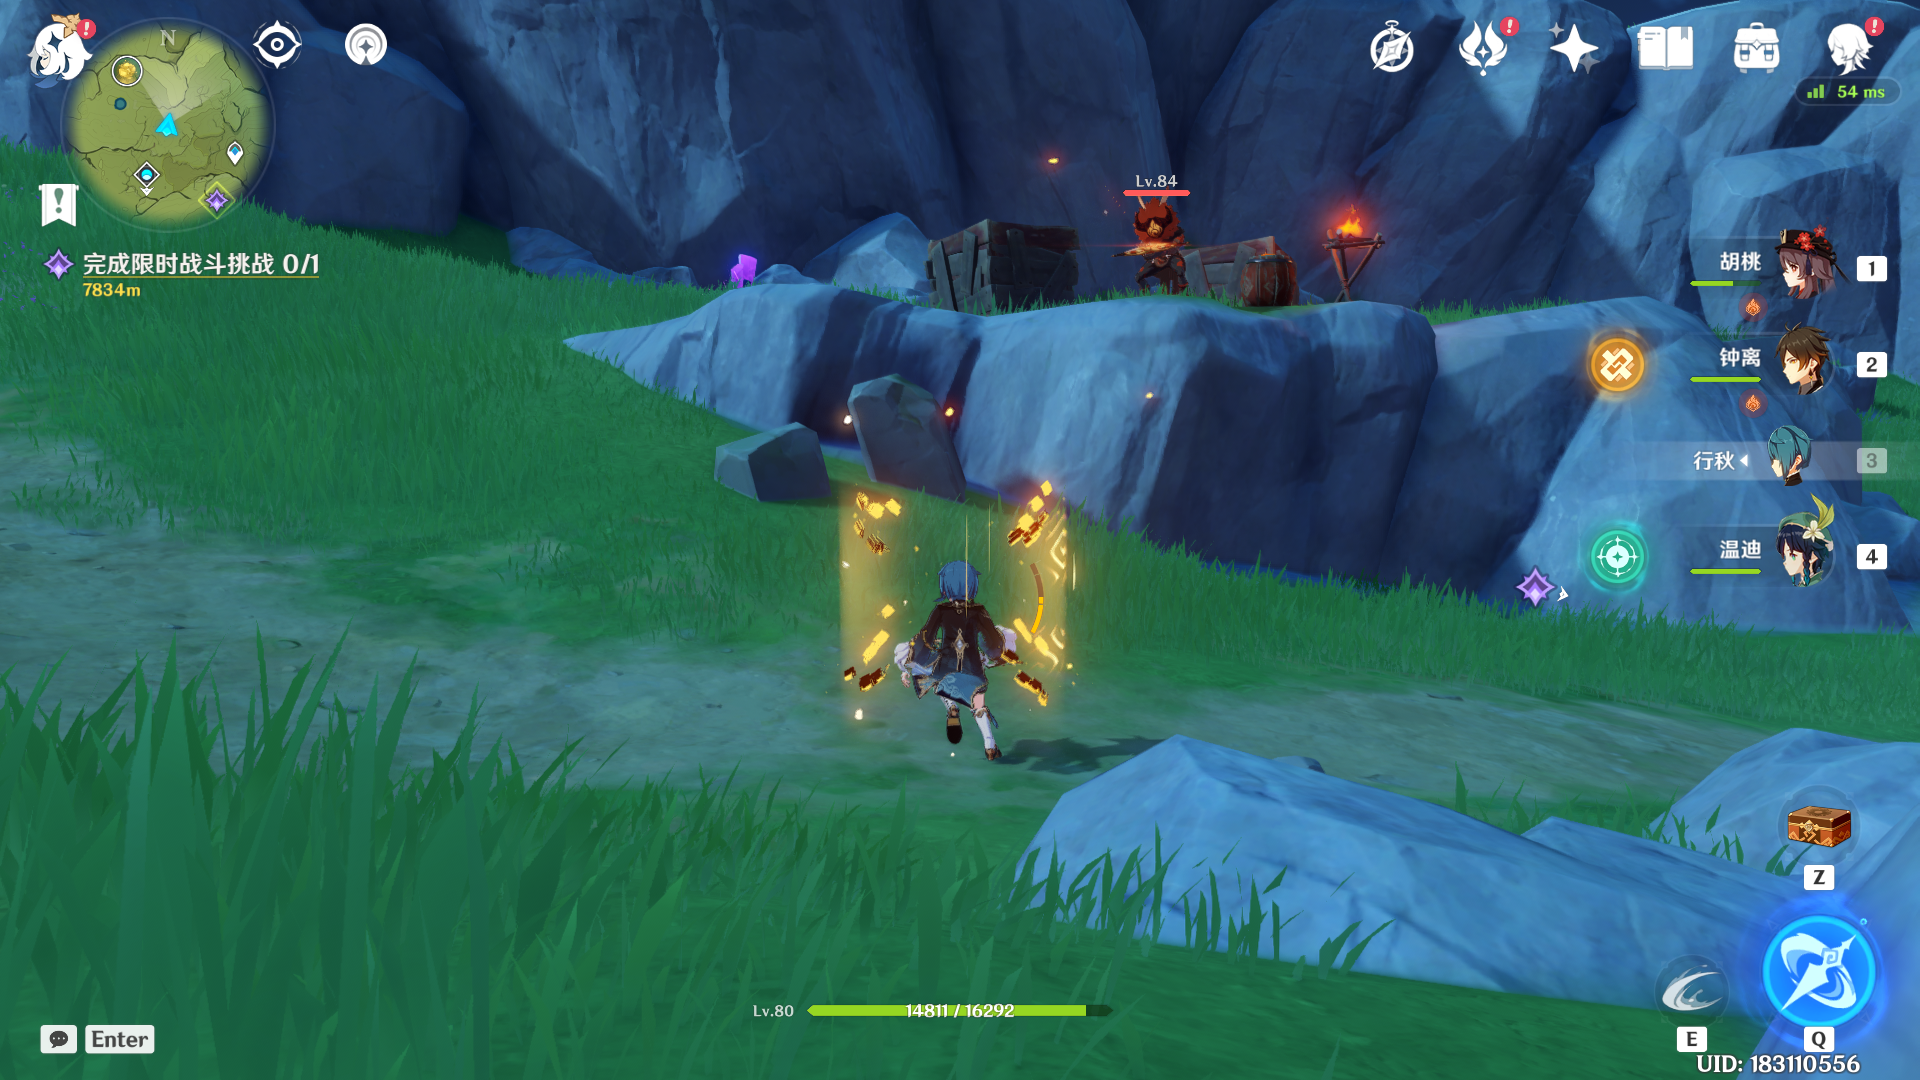character: (865, 524, 1063, 769)
hili: (1080, 182, 1220, 330)
